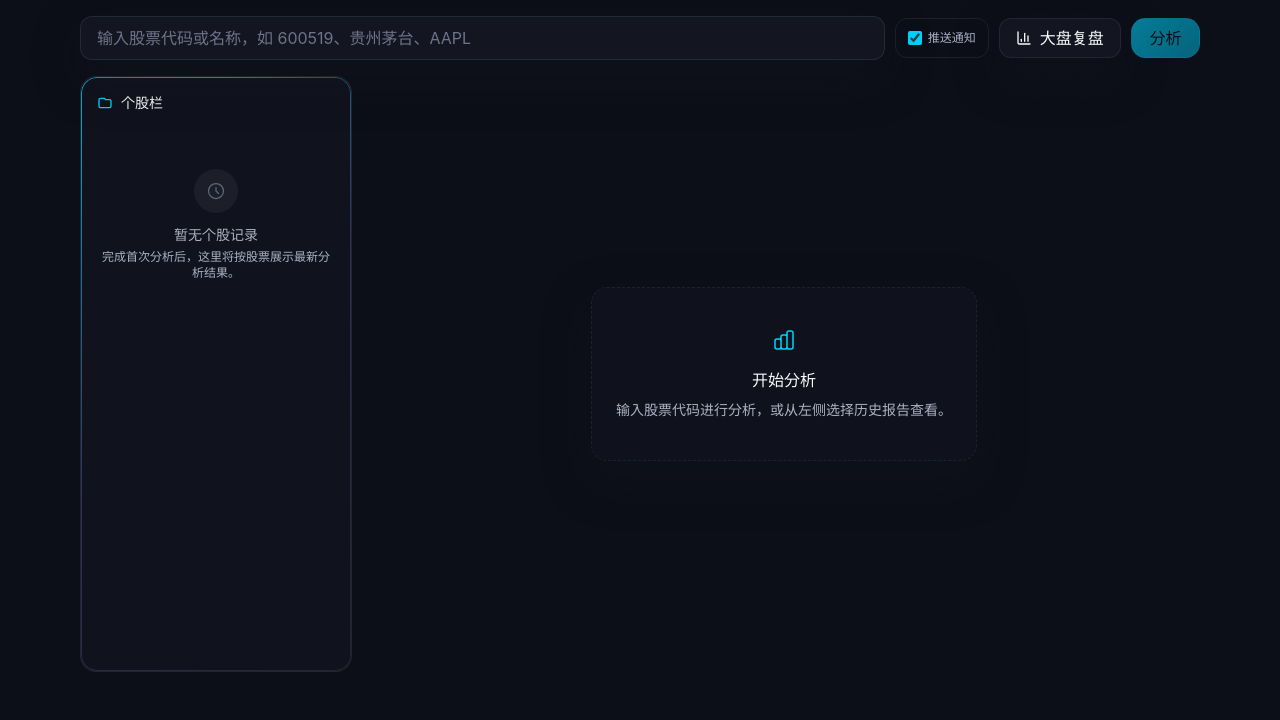
Scenario: HomePage › submits market review from the home toolbar
This screenshot has width=1280, height=720.
Click the button "大盘复盘": x=1060, y=38 [999,18,1121,58]
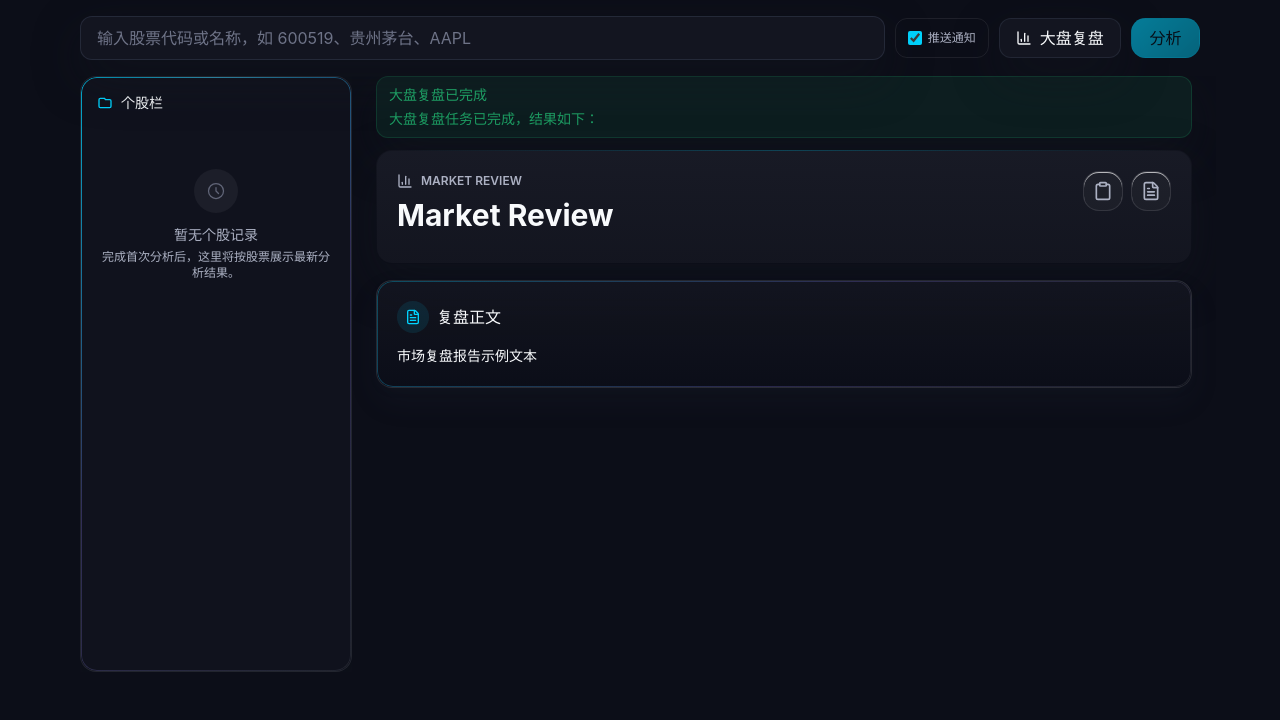
expect the text "大盘复盘已完成" is shown: met, box [389,86,487,103]
expect the text "市场复盘报告示例文本" is shown: met, box [397,346,537,364]
